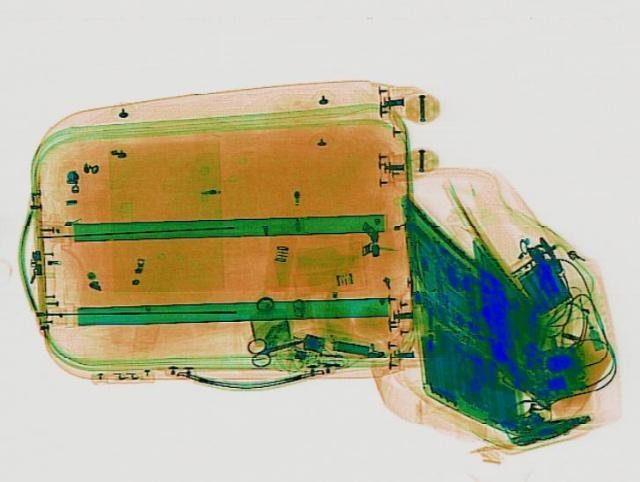Scissors: (236, 325, 308, 364)
